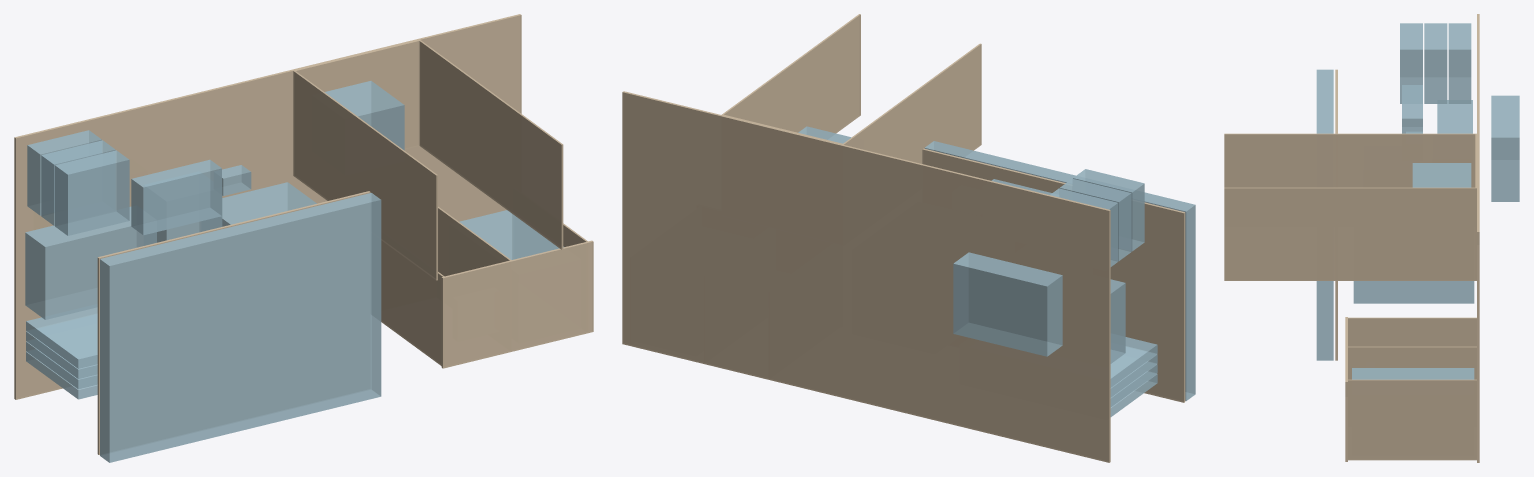
Rendered from A_fixa.glb.
3 views of the same model, side by side, from view 1: azimuth 30°, elevation 25°; view 2: azimuth 150°, elevation 25°; view 3: azimuth 270°, elevation 25° (orthographic). The views are drawn at different scales.
Visible parts, largest first — view 1: equipamento__17_cama_colchao, madeira__18_piso, madeira__21_parede_banho2, madeira__20_parede_banho, madeira__19_tampo, equipamento__6_tanque_limpa, equipamento__14_US5000_3, equipamento__5_inversor, madeira__23_divisoria_2.54, madeira__22_base_banho, equipamento__11_portatil_bolsa_4, madeira__24_divisoria_3.02 (+11 smaller); view 2: madeira__18_piso, madeira__26_estrado, equipamento__7_tanque_cinza, madeira__21_parede_banho2, madeira__20_parede_banho, equipamento__17_cama_colchao, equipamento__13_US5000_2, equipamento__14_US5000_3, equipamento__6_tanque_limpa, equipamento__11_portatil_bolsa_4, equipamento__12_US5000_1; view 3: madeira__21_parede_banho2, madeira__20_parede_banho, madeira__25_divisoria_3.57, madeira__23_divisoria_2.54, equipamento__7_tanque_cinza, madeira__24_divisoria_3.02, equipamento__15_lava_seca, equipamento__17_cama_colchao, equipamento__12_US5000_1, equipamento__13_US5000_2, equipamento__1_cassete, equipamento__0_geladeira_AC (+6 smaller).
Boxes of the visible parts, <box> form: equipamento__17_cama_colchao: <box>100,193,381,462</box>; madeira__18_piso: <box>14,14,521,399</box>; madeira__21_parede_banho2: <box>419,40,563,249</box>; madeira__20_parede_banho: <box>293,70,437,280</box>; madeira__19_tampo: <box>441,240,593,368</box>; equipamento__6_tanque_limpa: <box>25,206,156,319</box>; equipamento__14_US5000_3: <box>55,150,129,235</box>; equipamento__5_inversor: <box>131,159,221,235</box>; madeira__23_divisoria_2.54: <box>381,240,444,365</box>; madeira__22_base_banho: <box>295,40,419,149</box>; equipamento__11_portatil_bolsa_4: <box>26,307,97,368</box>; madeira__24_divisoria_3.02: <box>438,206,510,276</box>; madeira__18_piso: <box>622,91,1110,462</box>; madeira__26_estrado: <box>922,148,1185,402</box>; equipamento__7_tanque_cinza: <box>953,252,1062,356</box>; madeira__21_parede_banho2: <box>721,14,860,133</box>; madeira__20_parede_banho: <box>842,43,981,163</box>; equipamento__17_cama_colchao: <box>924,141,1195,400</box>; equipamento__13_US5000_2: <box>1059,178,1131,260</box>; equipamento__14_US5000_3: <box>1073,169,1144,251</box>; equipamento__6_tanque_limpa: <box>1110,279,1125,363</box>; equipamento__11_portatil_bolsa_4: <box>1110,337,1157,387</box>; equipamento__12_US5000_1: <box>1050,188,1118,266</box>; madeira__21_parede_banho2: <box>1224,187,1476,280</box>; madeira__20_parede_banho: <box>1224,133,1476,187</box>; madeira__25_divisoria_3.57: <box>1348,379,1476,460</box>; madeira__23_divisoria_2.54: <box>1348,317,1476,346</box>; equipamento__7_tanque_cinza: <box>1491,95,1519,201</box>; madeira__24_divisoria_3.02: <box>1348,346,1476,379</box>; equipamento__15_lava_seca: <box>1353,281,1474,303</box>; equipamento__17_cama_colchao: <box>1316,69,1333,360</box>; equipamento__12_US5000_1: <box>1448,23,1471,103</box>; equipamento__13_US5000_2: <box>1424,23,1447,103</box>; equipamento__1_cassete: <box>1412,163,1471,187</box>; equipamento__0_geladeira_AC: <box>1352,368,1474,379</box>.
Size of the model in its own units: 3.63 by 1.79 by 2.08.
